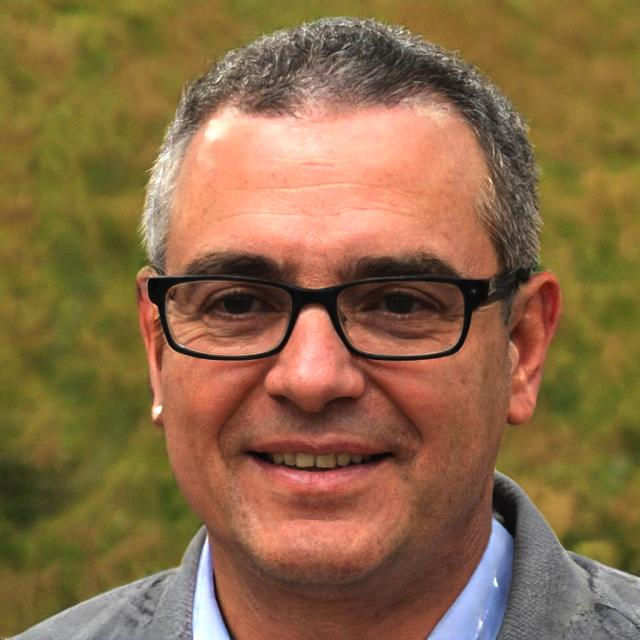lens: (336, 281, 466, 358), (166, 281, 292, 354)
